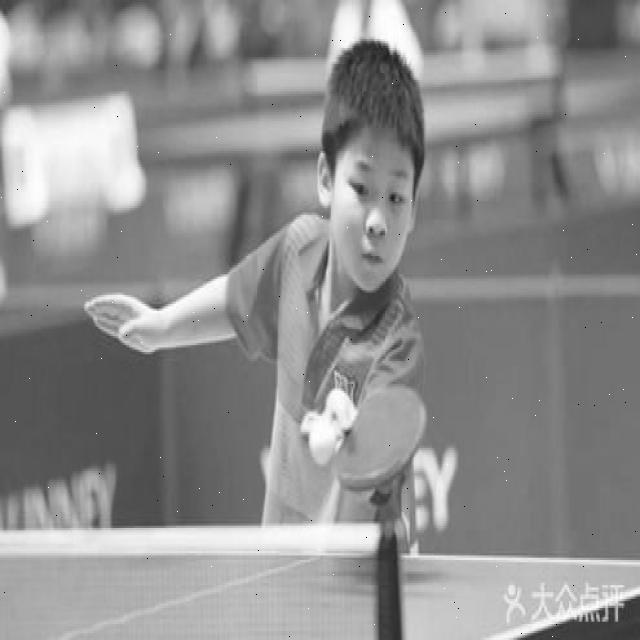ping-pong-ball: (305, 414, 336, 468)
